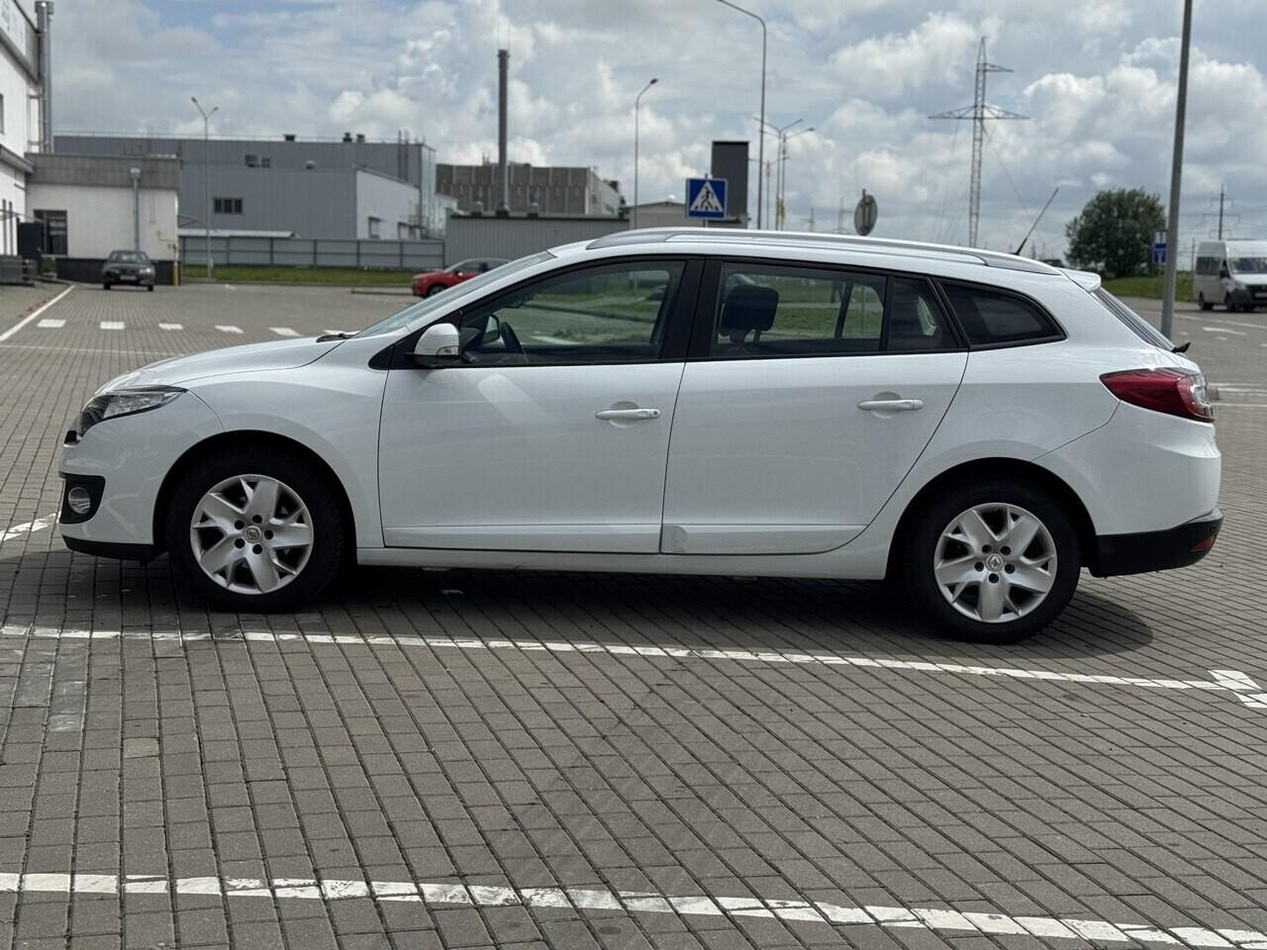Megane_2012-2014: (52, 225, 1232, 644)
